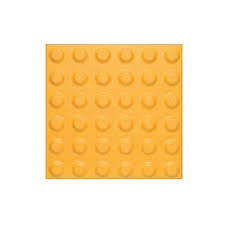guide_blocks: (48, 47, 181, 177)
